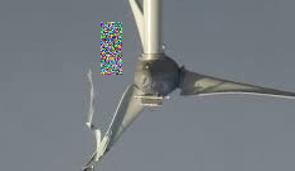faulty: (75, 73, 202, 151)
